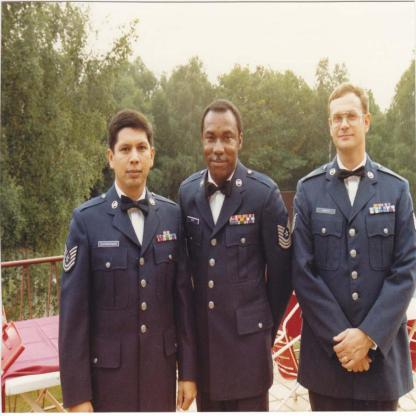face: (204, 111, 239, 180), (116, 128, 152, 186), (330, 93, 362, 150)
